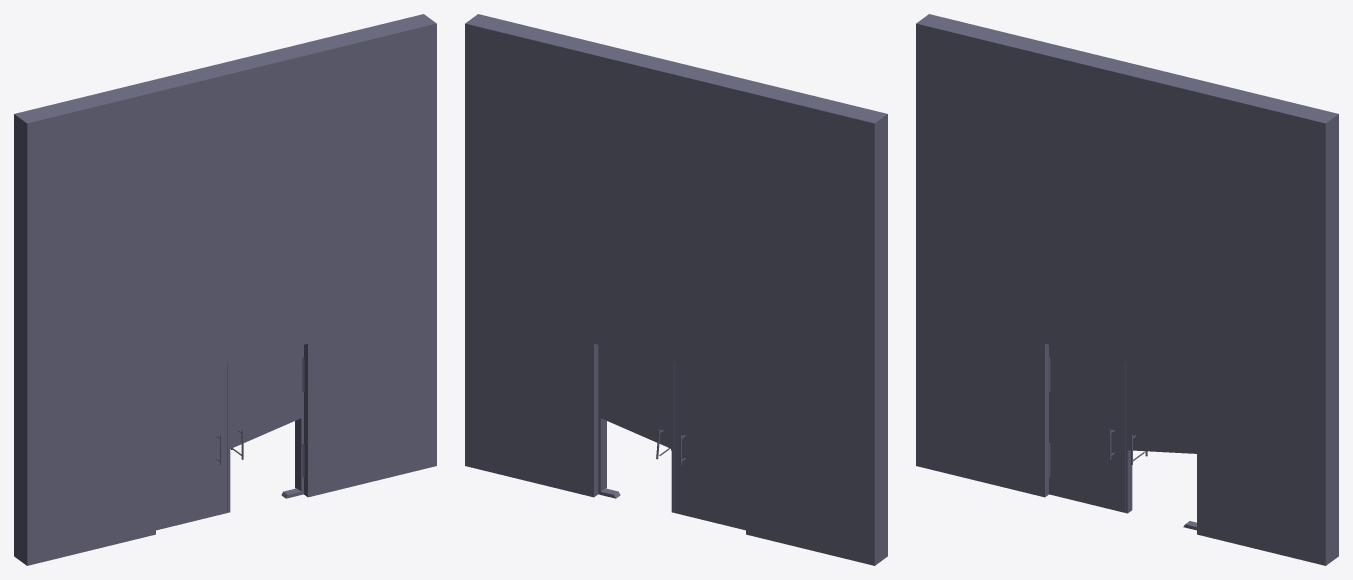
File: wall_door1_LP.fbx
3 views of the same model, side by side, from view 1: azimuth 30°, elevation 25°; view 2: azimuth 150°, elevation 25°; view 3: azimuth 330°, elevation 25° (orthographic).
Visible parts, largest first — view 1: wall_door2, wall_door1, wall_door17, wall_door18; view 2: wall_door2, wall_door1, wall_door17, wall_door18; view 3: wall_door2, wall_door1, wall_door17, wall_door18.
Part boxes in pixels (x1,y1,x2,y2): wall_door2: (14, 14, 436, 325); wall_door1: (14, 226, 436, 565); wall_door17: (156, 363, 227, 530); wall_door18: (227, 345, 303, 512); wall_door2: (465, 14, 887, 325); wall_door1: (465, 226, 887, 565); wall_door17: (674, 363, 745, 530); wall_door18: (598, 345, 674, 512); wall_door2: (916, 14, 1338, 325); wall_door1: (916, 226, 1338, 565); wall_door17: (1049, 345, 1125, 512); wall_door18: (1125, 363, 1196, 530).
Bounding box in the file's own units: 751 × 775 × 43.29.
